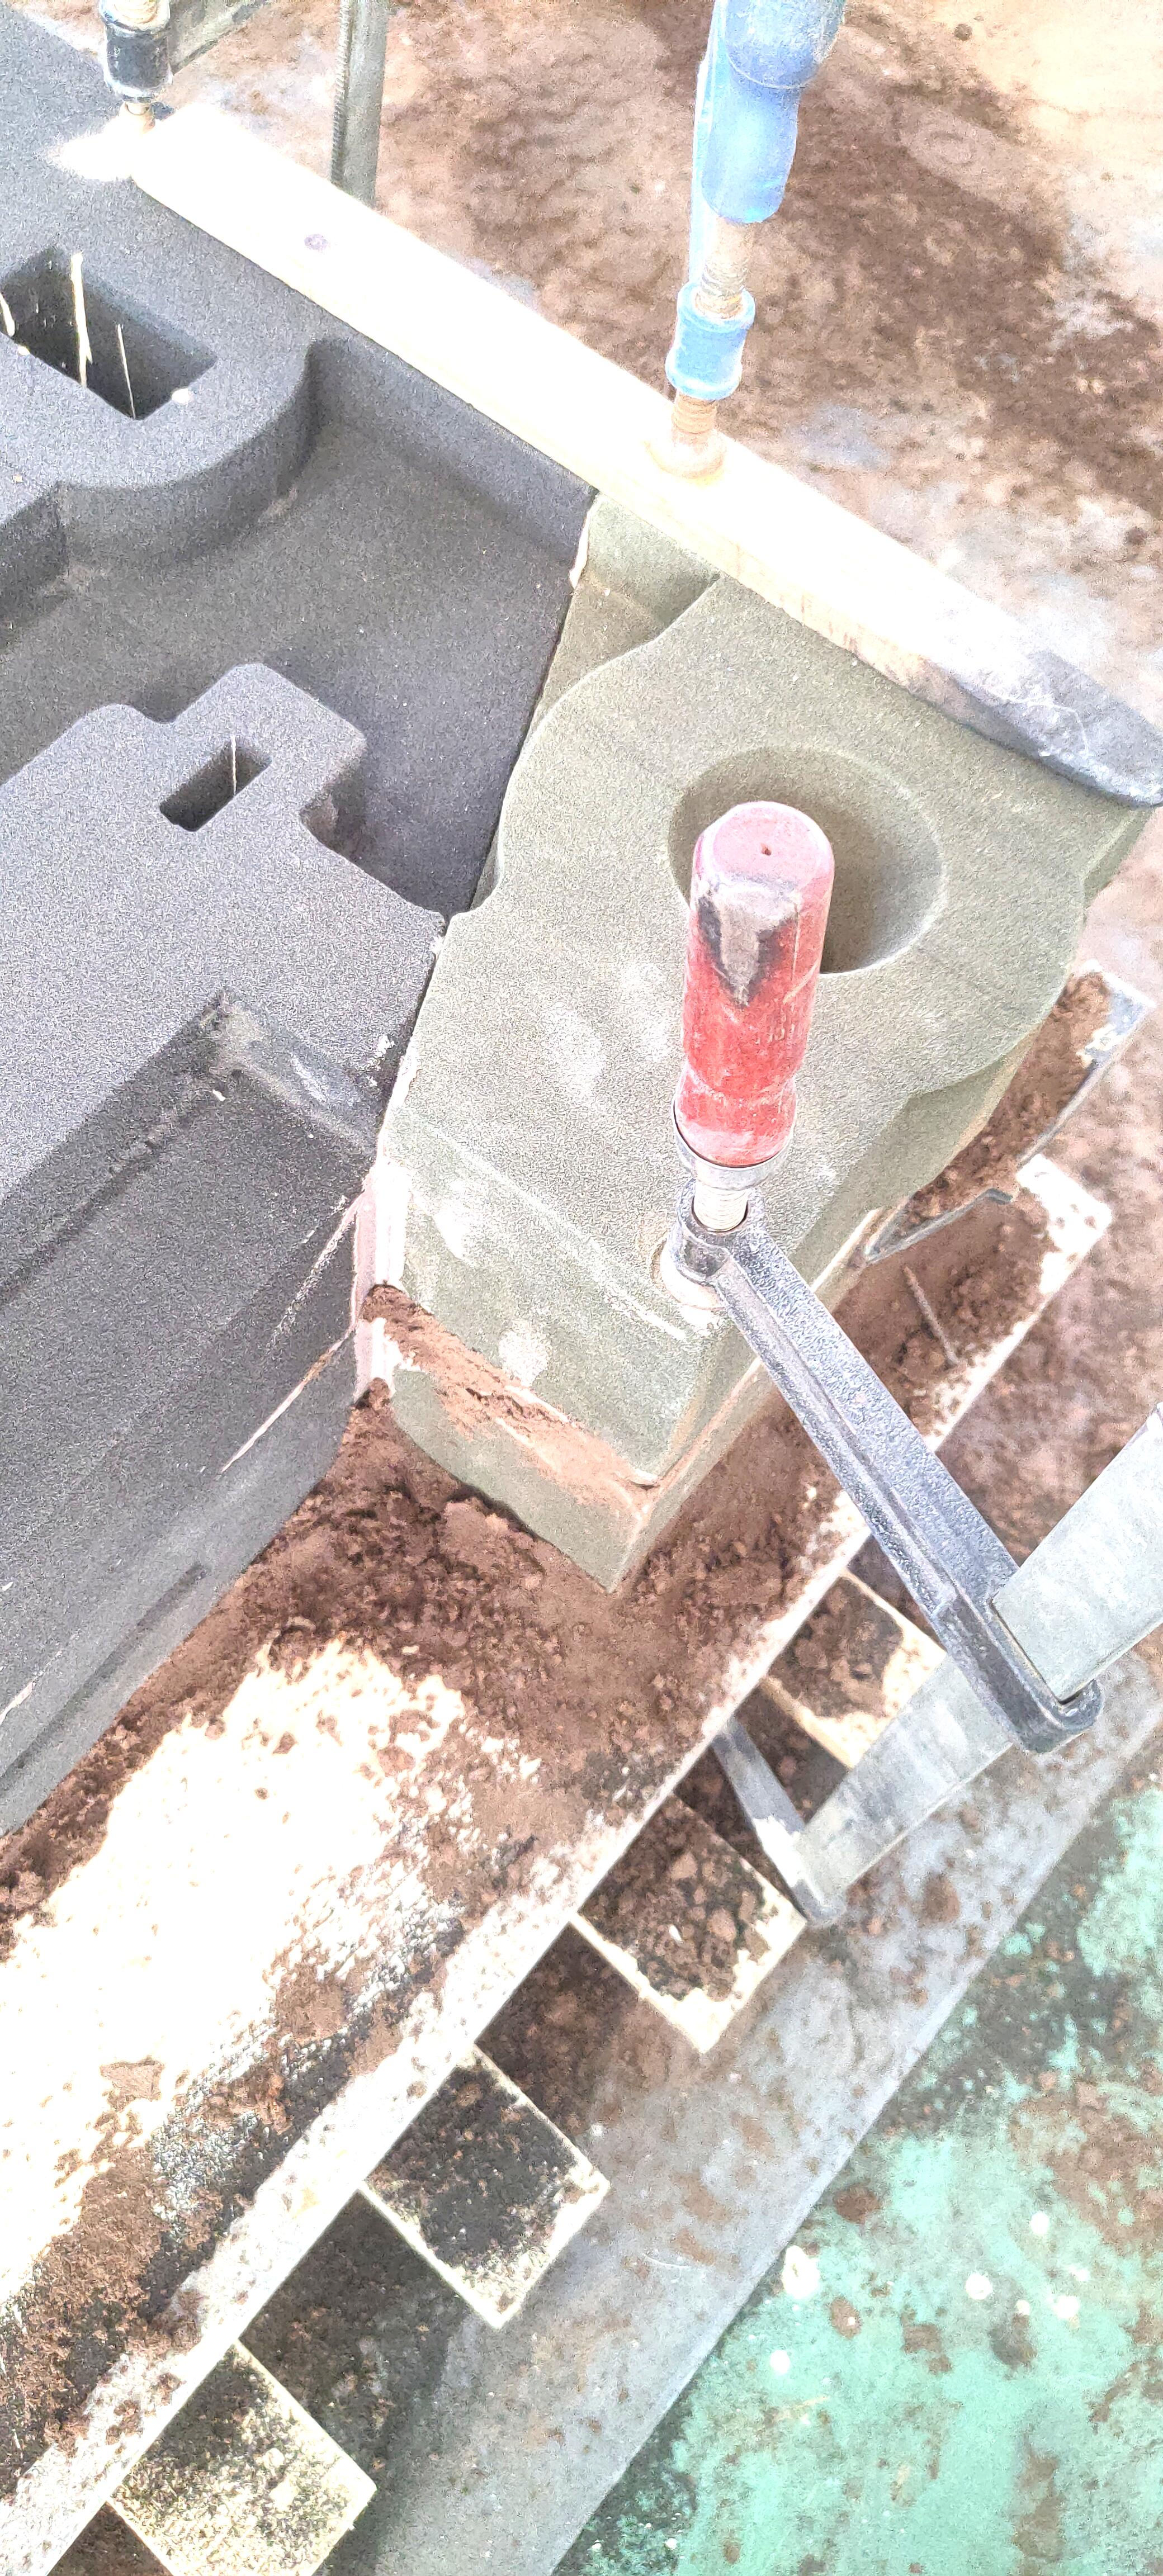pouring hole: (665, 741, 946, 976)
